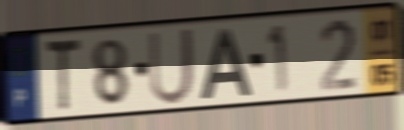1: (264, 21, 290, 97)
2: (317, 16, 360, 94)
8: (89, 36, 133, 107)
A: (198, 26, 254, 103)
T: (43, 35, 83, 115)
U: (146, 25, 197, 108)
